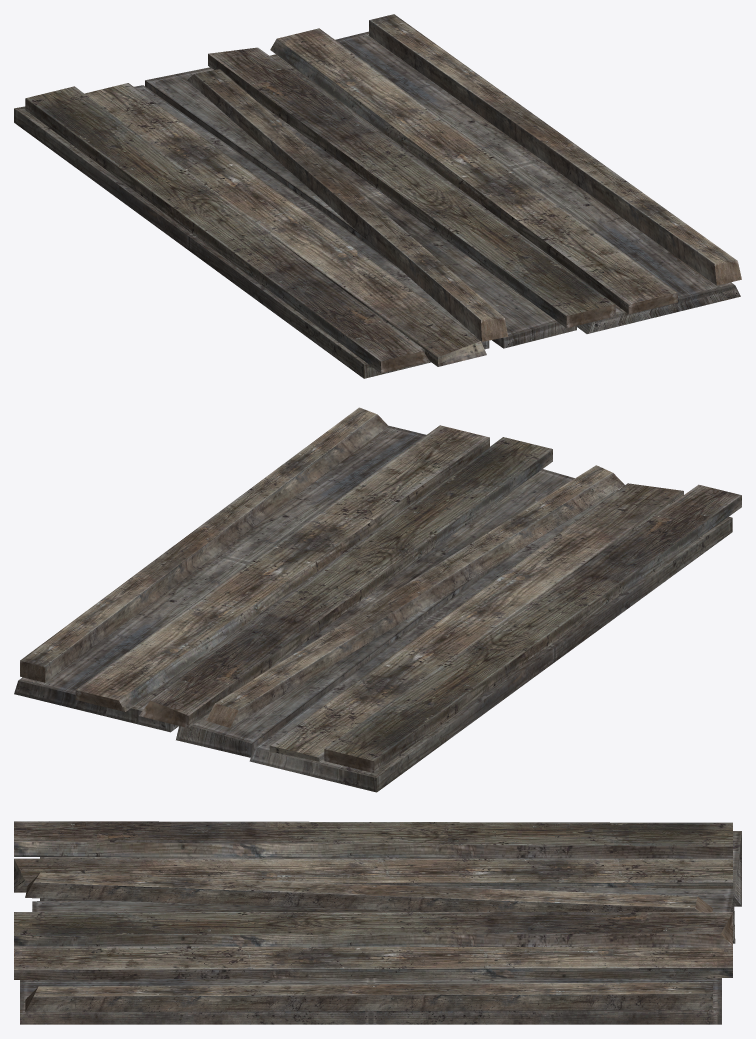
Rendered from SM_Planks.FBX.
3 renders of one model, top to bottom at view 1: azimuth 30°, elevation 25°; view 2: azimuth 150°, elevation 25°; view 3: azimuth 270°, elevation 25°, orthographic.
Visible parts, largest first — view 1: SM_Planks; view 2: SM_Planks; view 3: SM_Planks.
Part boxes in pixels (x1,y1,x2,y2): SM_Planks: (14, 14, 741, 378); SM_Planks: (14, 407, 741, 792); SM_Planks: (14, 821, 741, 1024).
Bounding box in the file's own units: 122 × 9.43 × 207.
